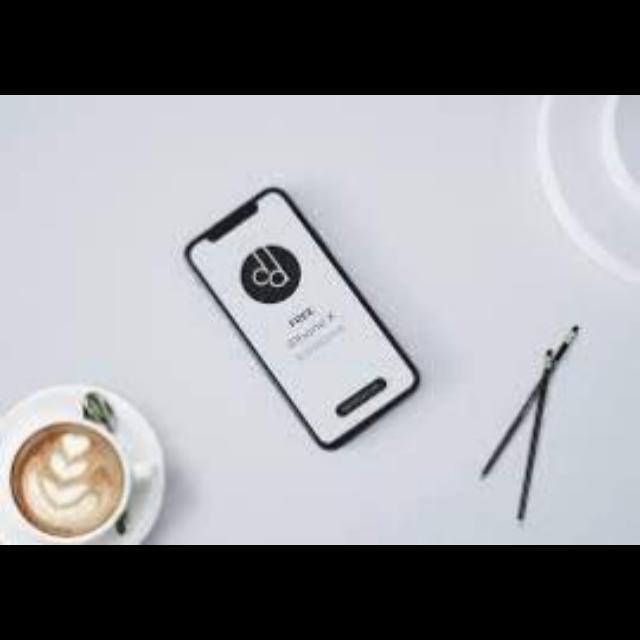PhoneUse: (185, 186, 422, 450)
SafeDriving: (238, 242, 307, 298)
